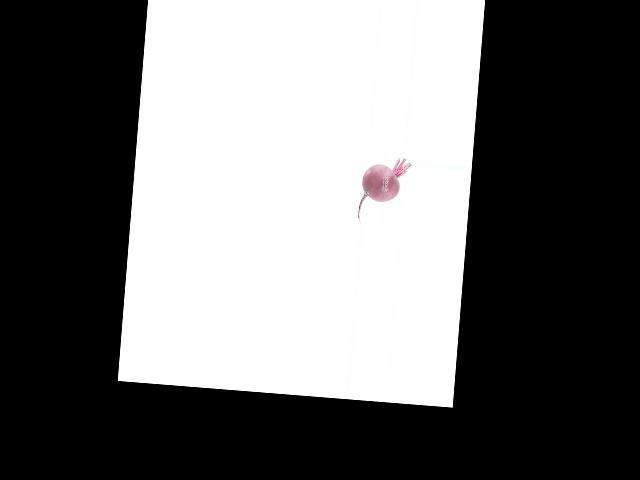beet: (357, 155, 411, 227)
